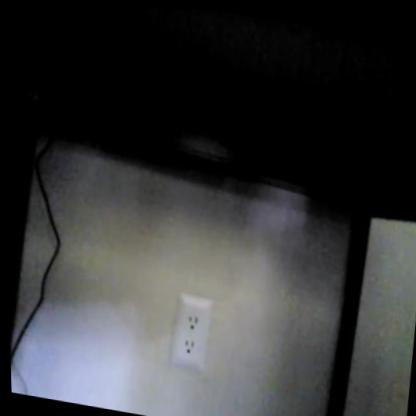OUTLET: (167, 290, 212, 368)
